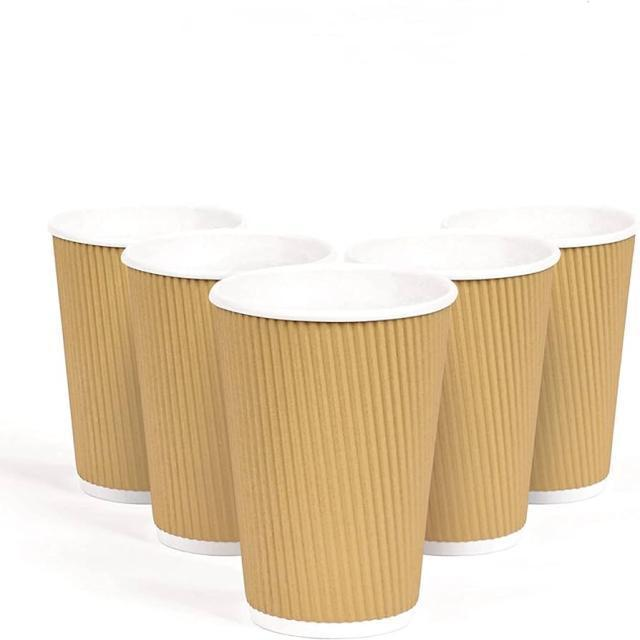Cup: (208, 258, 459, 639), (118, 228, 346, 558), (337, 227, 562, 560), (47, 201, 254, 506), (439, 197, 640, 505)
